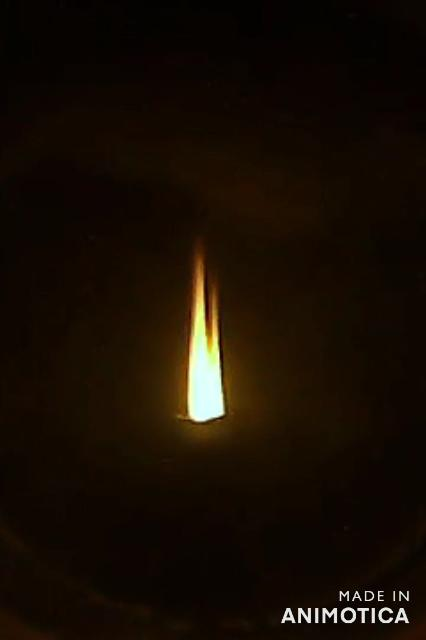burner flame: (180, 234, 232, 426)
